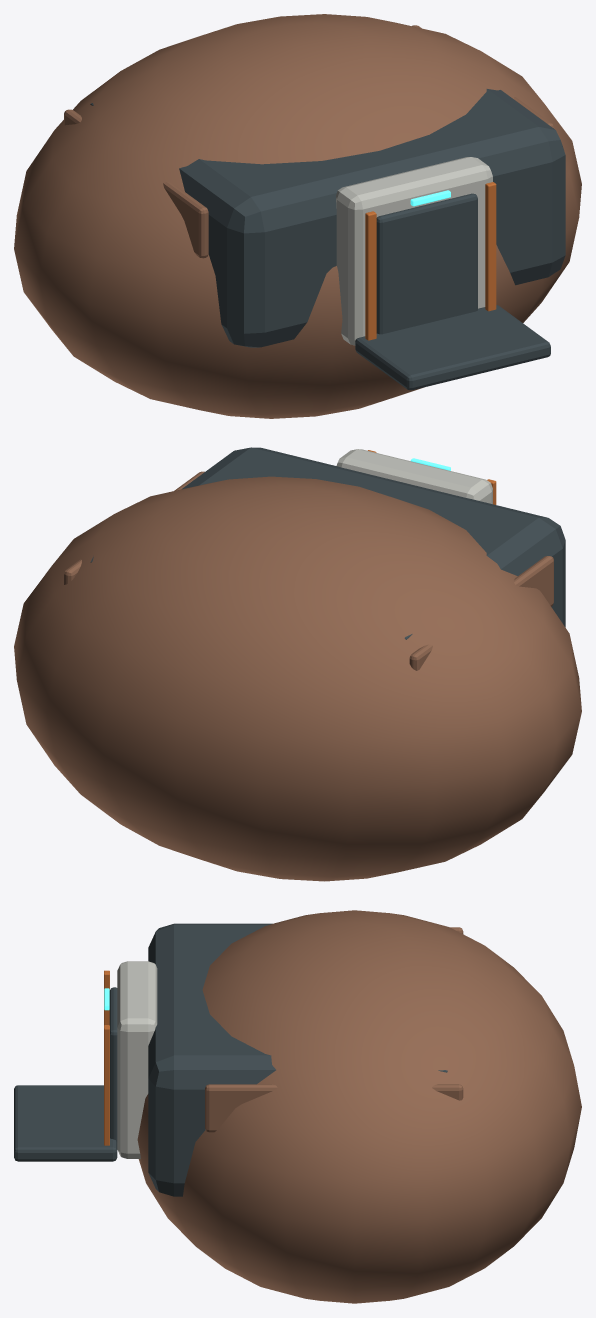
File: shelter.glb
The picture shows the model from 3 angles, top to bottom: view 1: azimuth 30°, elevation 25°; view 2: azimuth 150°, elevation 25°; view 3: azimuth 270°, elevation 25°; orthographic projection. The views are drawn at different scales.
Parts seen in each view (by area): view 1: shelter; view 2: shelter; view 3: shelter.
Part boxes in pixels (box(x1,y1,x2,y2)): shelter: box(14, 14, 581, 418); shelter: box(14, 447, 581, 881); shelter: box(14, 910, 581, 1303).
Bounding box in the file's own units: 10.8 × 6.8 × 11.
